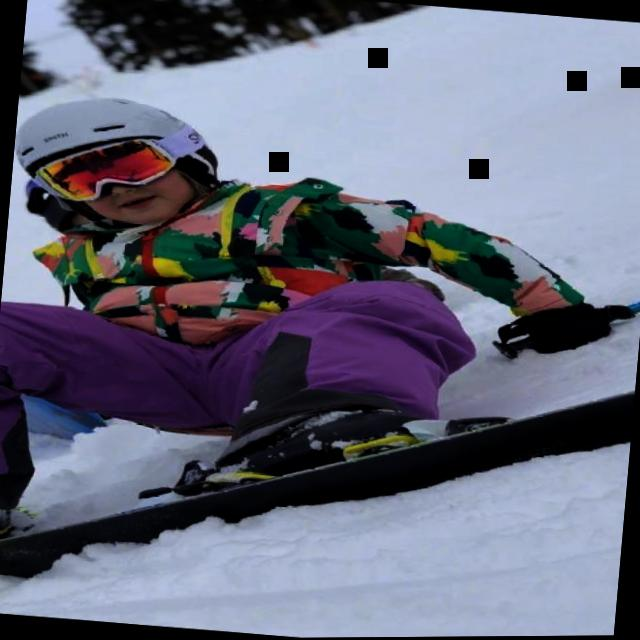Fall-Detected: (0, 99, 640, 640)
